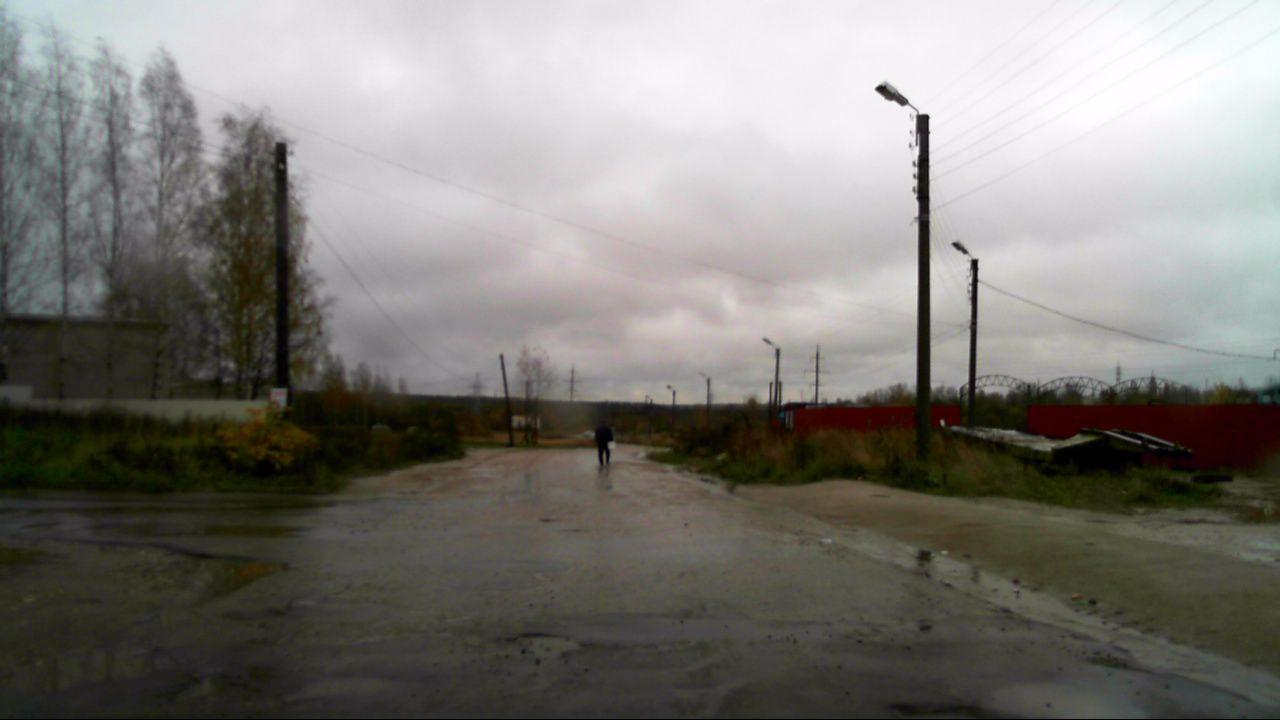pothole: (514, 628, 583, 663)
